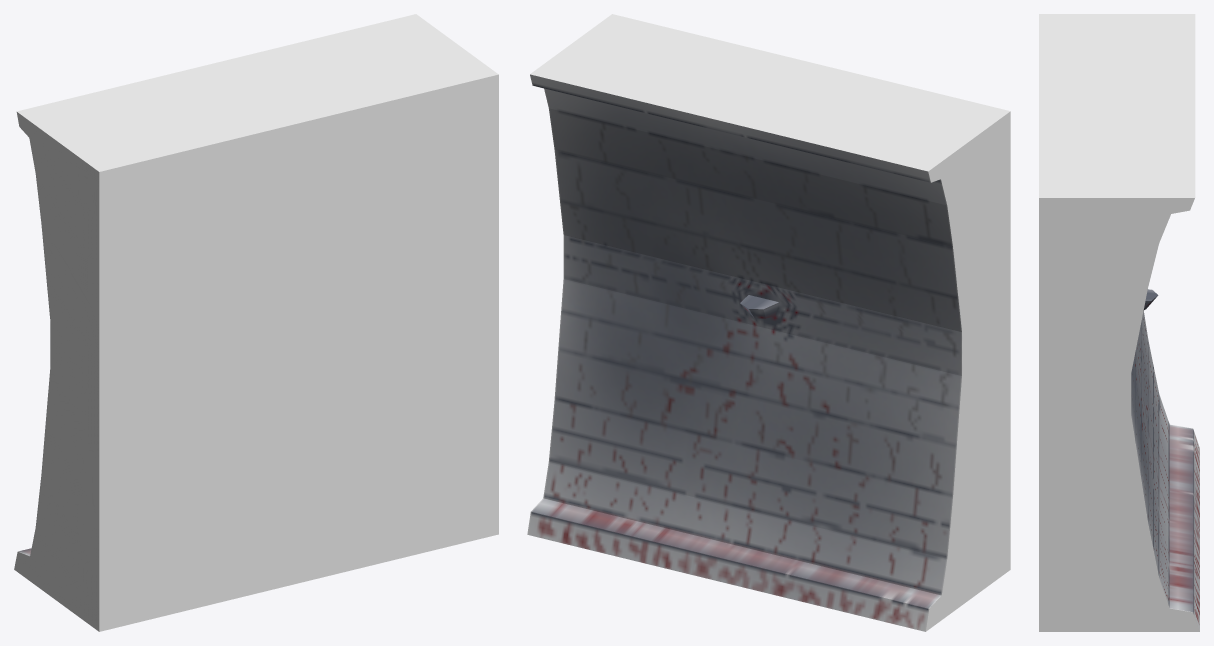
The model's file is Wall.fbx.
The picture shows the model from 3 angles, left to right: view 1: azimuth 30°, elevation 25°; view 2: azimuth 150°, elevation 25°; view 3: azimuth 270°, elevation 25°; orthographic projection. The views are drawn at different scales.
Visible parts, largest first — view 1: Cube; view 2: Cube; view 3: Cube.
Boxes of the visible parts, box(x1,y1,x2,y2) form: Cube: box(14, 14, 498, 631); Cube: box(527, 14, 1010, 631); Cube: box(1039, 14, 1199, 631).
Bounding box in the file's own units: 628 × 691 × 232.
1 material, 1 textured.
